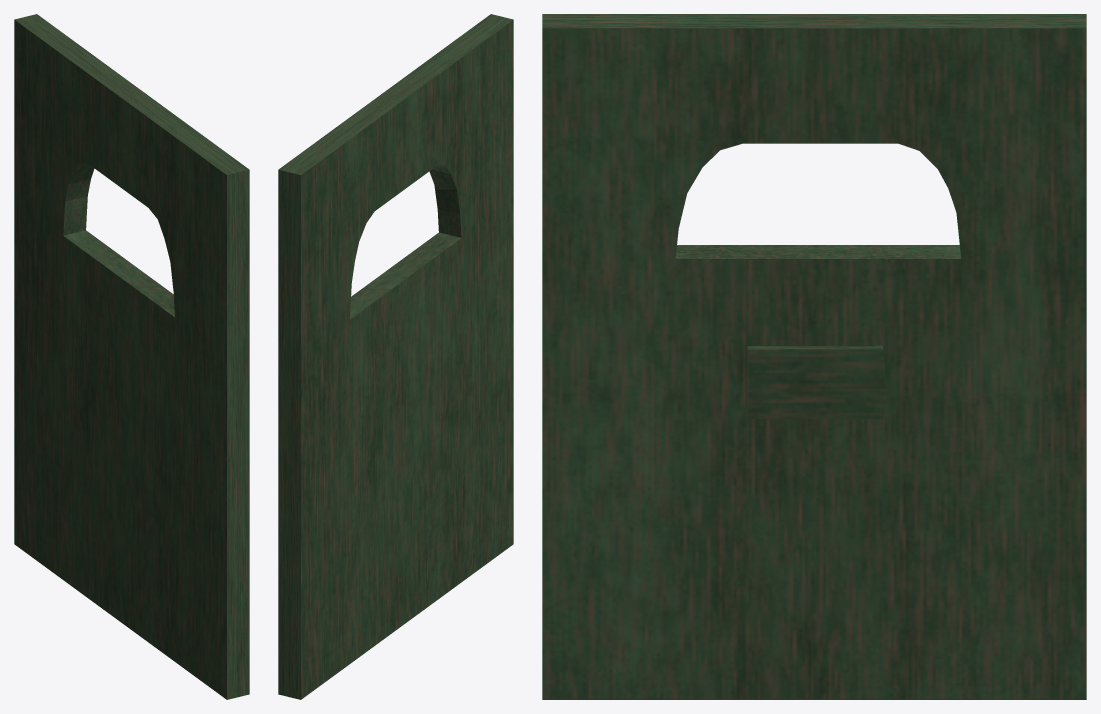
Rendered from DroneDoor.glb.
3 views of the same model, side by side, from view 1: azimuth 30°, elevation 25°; view 2: azimuth 150°, elevation 25°; view 3: azimuth 270°, elevation 25° (orthographic). The views are drawn at different scales.
Visible parts, largest first — view 1: Cube; view 2: Cube; view 3: Cube.
Boxes of the visible parts, bbox=[...] form: Cube: bbox=[14, 14, 249, 699]; Cube: bbox=[278, 14, 513, 699]; Cube: bbox=[542, 14, 1086, 699].
Bounding box in the file's own units: 0.2696 × 4.79 × 3.52.
1 material, 1 textured.
